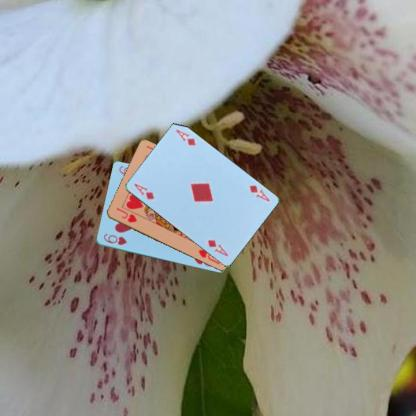6h: (101, 231, 128, 246)
Ad: (247, 182, 271, 203), (131, 181, 156, 200)
Jh: (114, 205, 138, 224)
